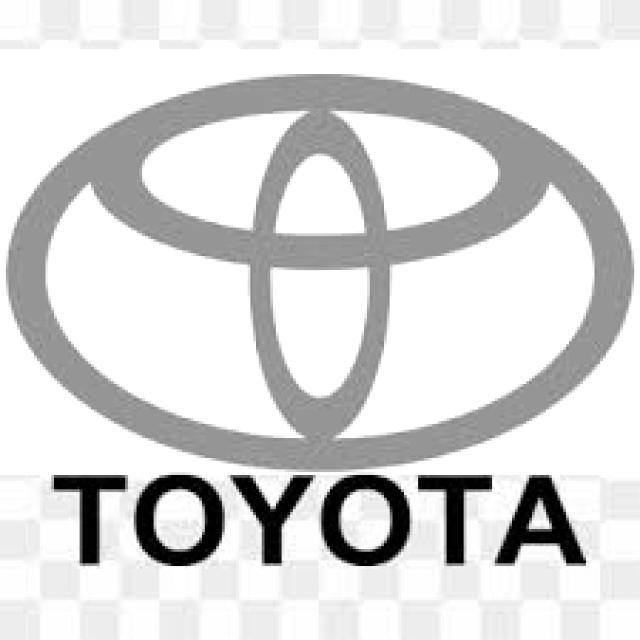toyota: (0, 49, 640, 475)
